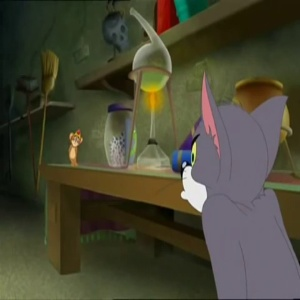Jerry: (66, 126, 84, 150)
Tom: (175, 91, 291, 212)
